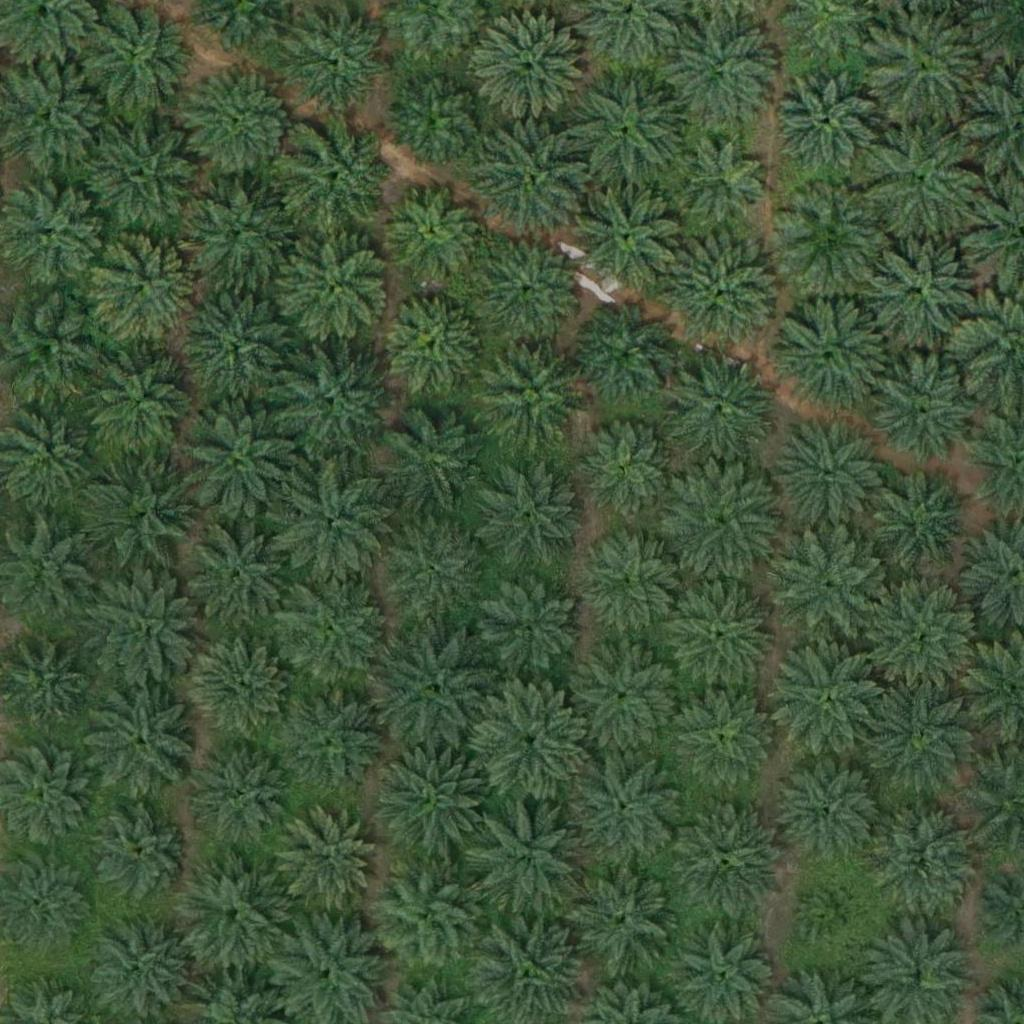Kelapa_Sawit: (183, 66, 296, 180), (281, 119, 394, 233), (278, 230, 391, 344), (867, 801, 980, 915), (773, 642, 886, 756), (379, 402, 492, 516), (368, 858, 481, 972), (179, 179, 292, 292), (475, 12, 588, 125), (571, 71, 684, 184), (572, 176, 685, 289), (666, 236, 779, 349), (776, 295, 889, 408), (867, 11, 980, 124), (871, 582, 984, 695), (865, 677, 978, 790), (772, 417, 885, 530), (776, 533, 889, 646), (663, 352, 776, 465), (668, 466, 781, 579), (475, 685, 588, 798), (472, 797, 585, 910), (376, 515, 489, 628), (381, 634, 494, 747), (374, 746, 487, 859), (276, 346, 389, 459), (278, 468, 391, 581), (83, 570, 196, 683), (83, 686, 196, 799), (81, 798, 194, 911), (473, 337, 585, 451), (669, 580, 781, 694), (472, 461, 584, 575), (88, 118, 200, 231), (89, 233, 201, 346), (186, 286, 298, 399), (473, 125, 585, 238), (471, 235, 583, 348), (663, 18, 775, 131), (775, 181, 887, 294), (869, 123, 981, 236), (867, 229, 979, 342), (871, 353, 983, 466), (671, 806, 783, 919), (570, 643, 682, 756), (574, 753, 686, 866), (279, 574, 391, 687), (277, 687, 389, 800), (184, 405, 296, 518), (181, 516, 293, 629), (84, 349, 196, 462), (87, 464, 199, 577), (174, 857, 286, 970), (568, 862, 680, 975), (390, 68, 490, 169), (574, 303, 674, 404), (674, 136, 774, 237), (774, 69, 874, 170), (876, 470, 976, 571), (280, 806, 380, 907), (188, 638, 288, 739), (193, 744, 293, 845), (292, 8, 392, 108), (388, 183, 488, 283), (384, 295, 484, 395), (781, 759, 881, 859), (674, 690, 774, 790), (575, 422, 675, 522), (580, 536, 680, 636), (483, 580, 583, 680), (802, 884, 864, 947)
